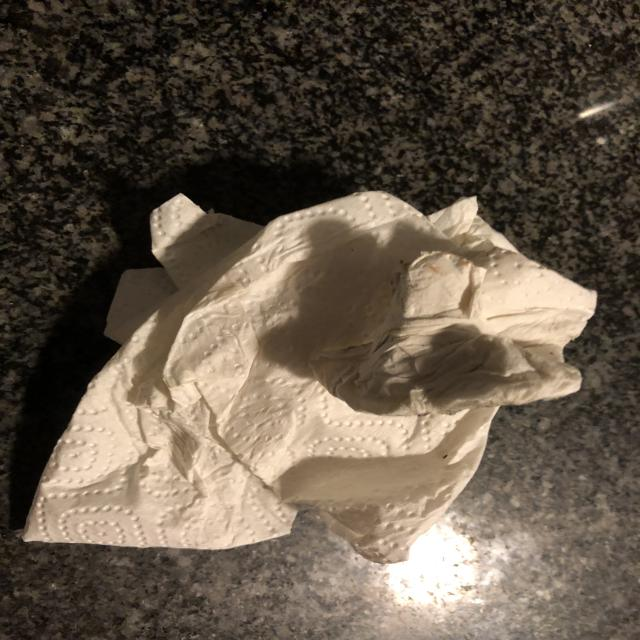kitchen paper: (21, 176, 597, 567)
